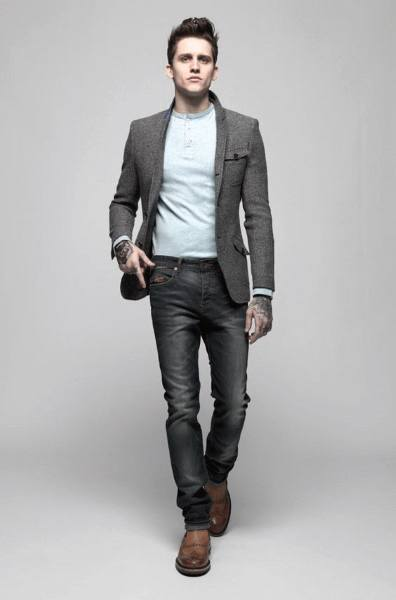NOTSAFE: (144, 17, 247, 301)
